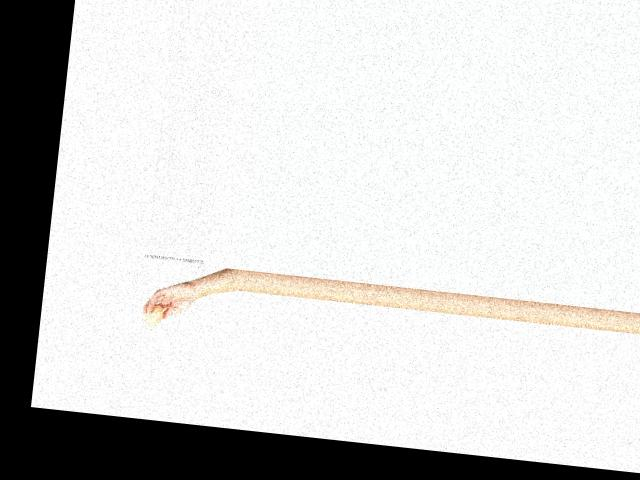egg: (144, 302, 164, 328)
